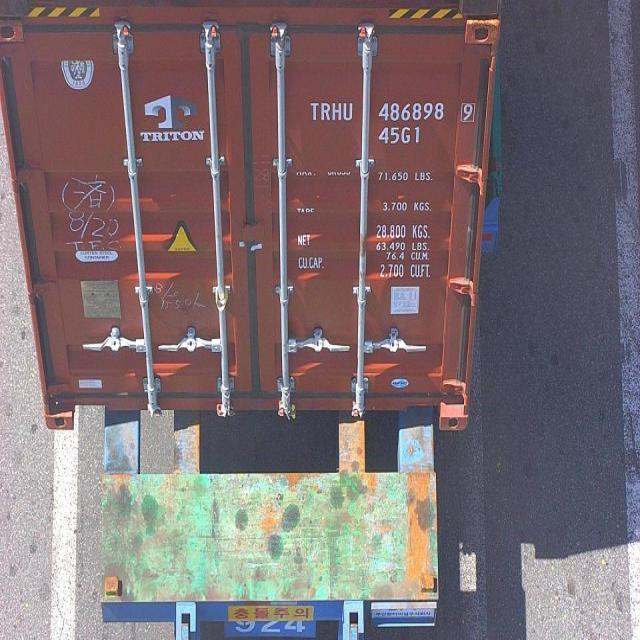ISO: (378, 127, 422, 145)
container_number: (314, 98, 476, 124)
